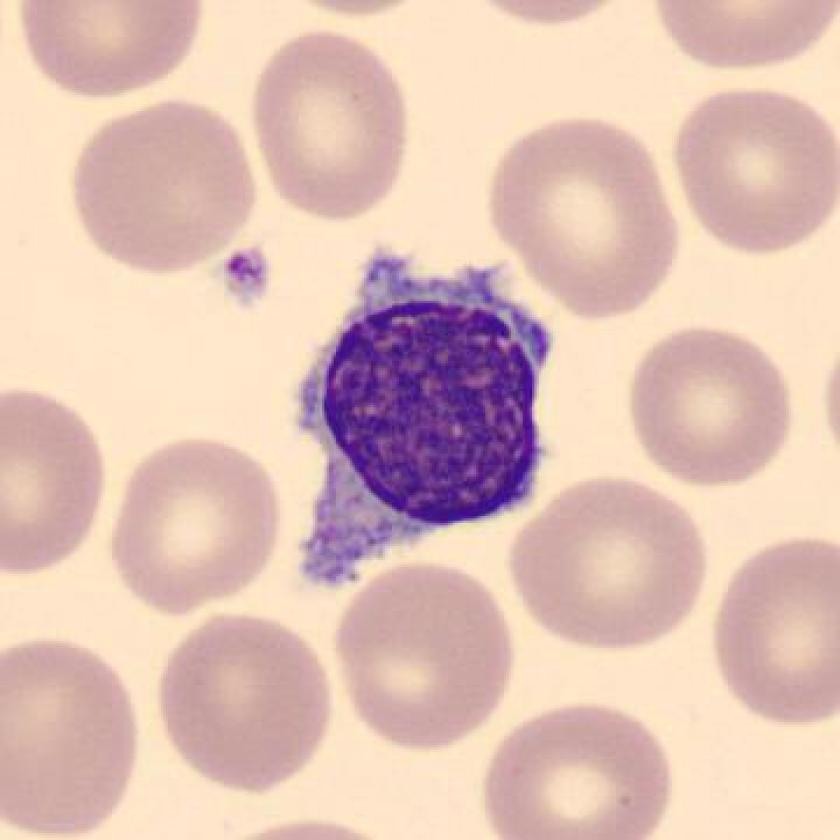lymphocyte: (274, 232, 570, 605)
platelets: (215, 245, 282, 308)
